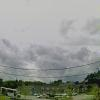Tree: (85, 71, 100, 91)
